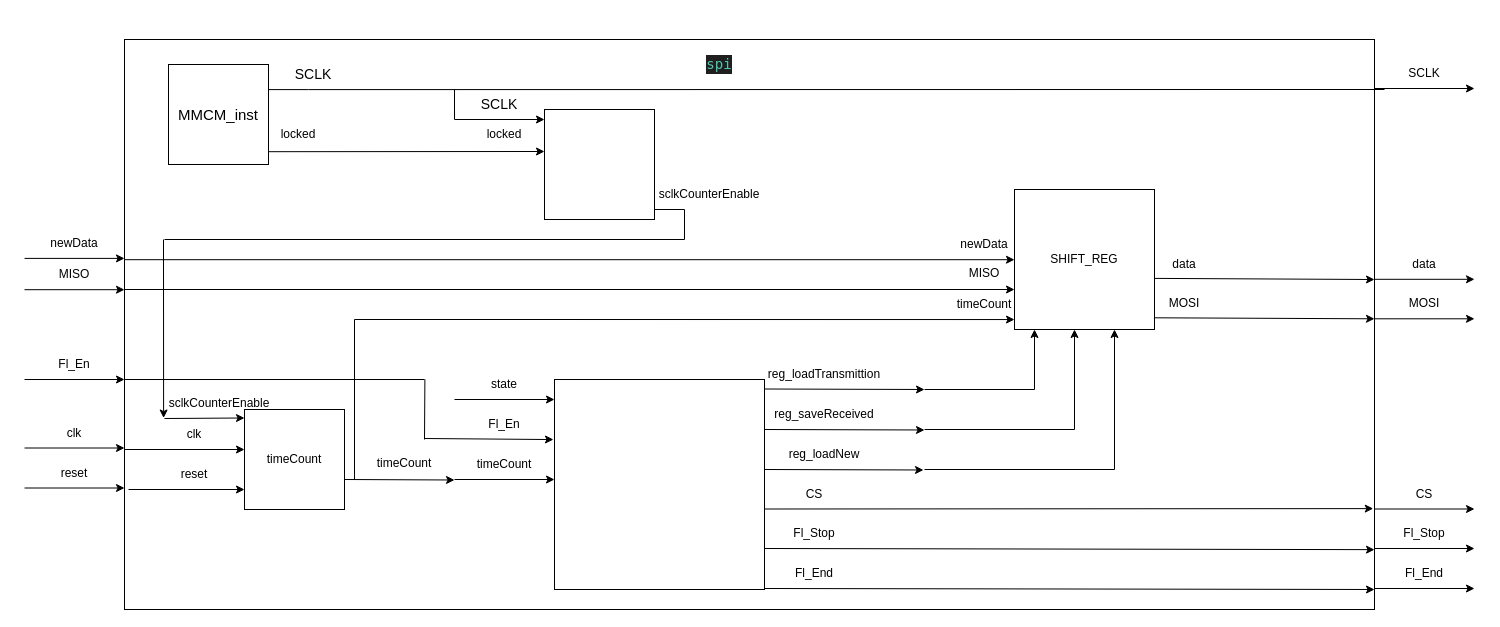
Image size: 1500x627. Some labels were removed from this diagram. Each missing label, with the centre of its shape:
FSM (Moore): (659,484)
SCLK_SYNC: (599,164)
